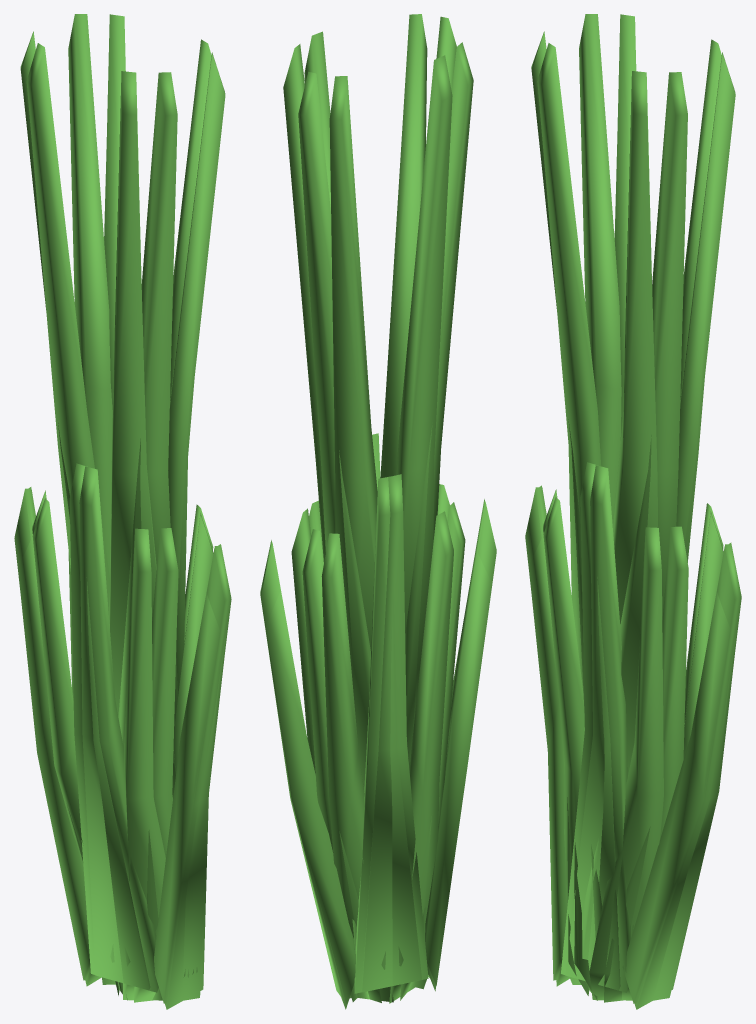
Rendered from alga1.fbx.
3 views of the same model, side by side, from view 1: azimuth 90°, elevation 25°; view 2: azimuth 150°, elevation 25°; view 3: azimuth 270°, elevation 25° (orthographic).
Parts seen in each view (by area): view 1: Planta_Longa.03; view 2: Planta_Longa.03; view 3: Planta_Longa.03.
Boxes of the visible parts, x1,y1,x2,y2 form: Planta_Longa.03: (14,14,231,1009); Planta_Longa.03: (260,14,496,1009); Planta_Longa.03: (525,14,741,1009).
Size of the model in its own units: 39.65 by 266 by 54.89.
